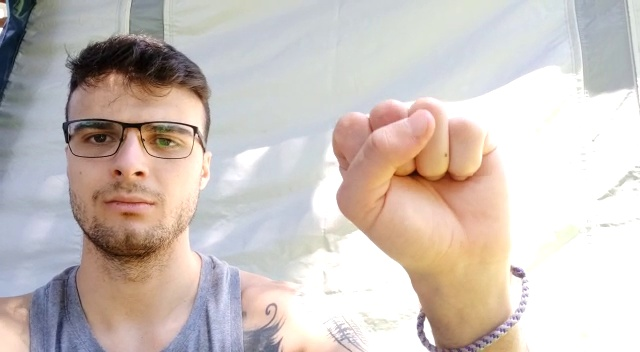Fist: (326, 95, 543, 272)
